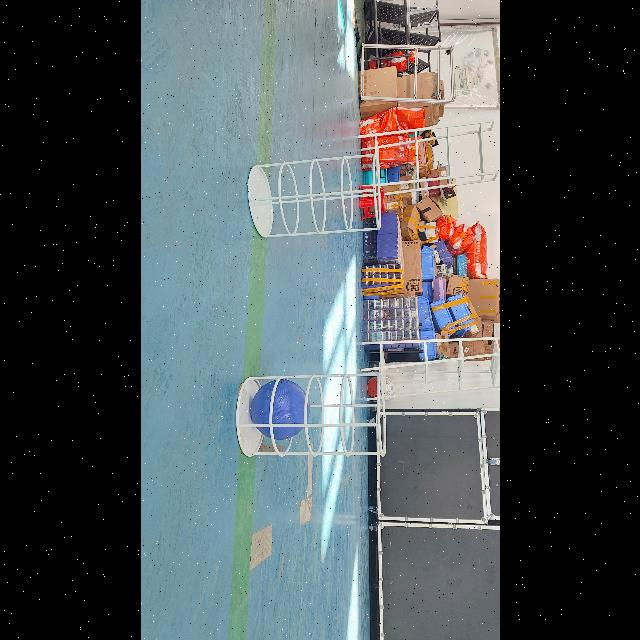B: (250, 379, 310, 439)
S: (234, 368, 388, 464), (244, 150, 384, 242)
